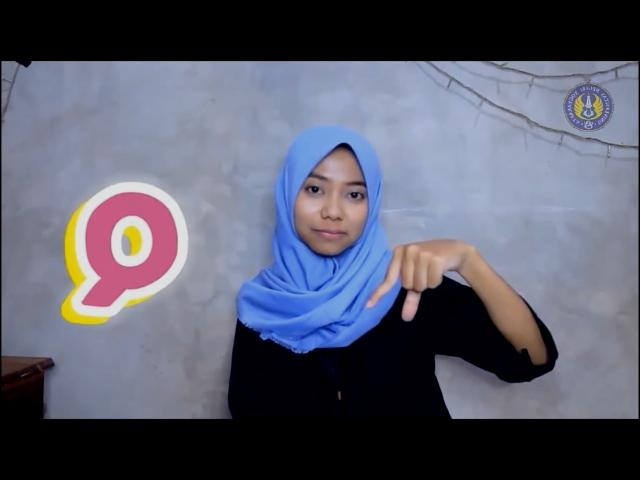Q: (364, 232, 472, 321)
